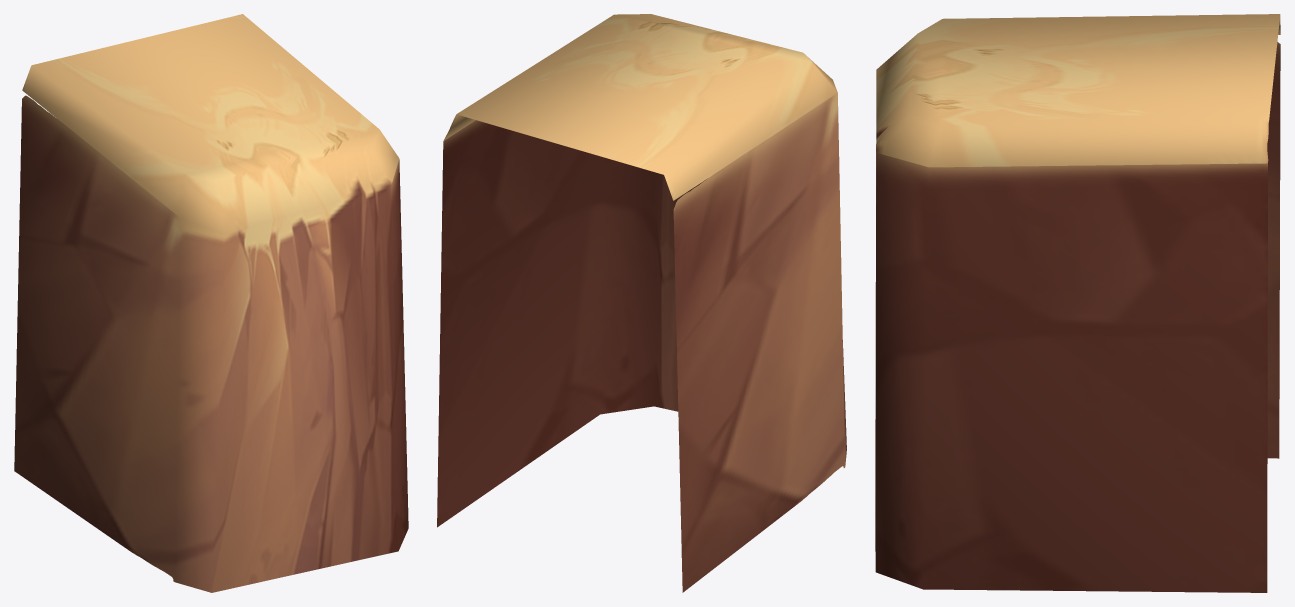
Rendered from Chapter1Scene1Model29.FBX.
3 renders of one model, left to right at view 1: azimuth 30°, elevation 25°; view 2: azimuth 150°, elevation 25°; view 3: azimuth 270°, elevation 25°, orthographic. The views are drawn at different scales.
Parts seen in each view (by area): view 1: Chapter1Scene1Model29; view 2: Chapter1Scene1Model29; view 3: Chapter1Scene1Model29.
Part boxes in pixels (x1,y1,x2,y2): Chapter1Scene1Model29: (14,14,408,592); Chapter1Scene1Model29: (437,14,846,592); Chapter1Scene1Model29: (875,14,1280,592).
Size of the model in its own units: 92.2 by 117 by 147.
